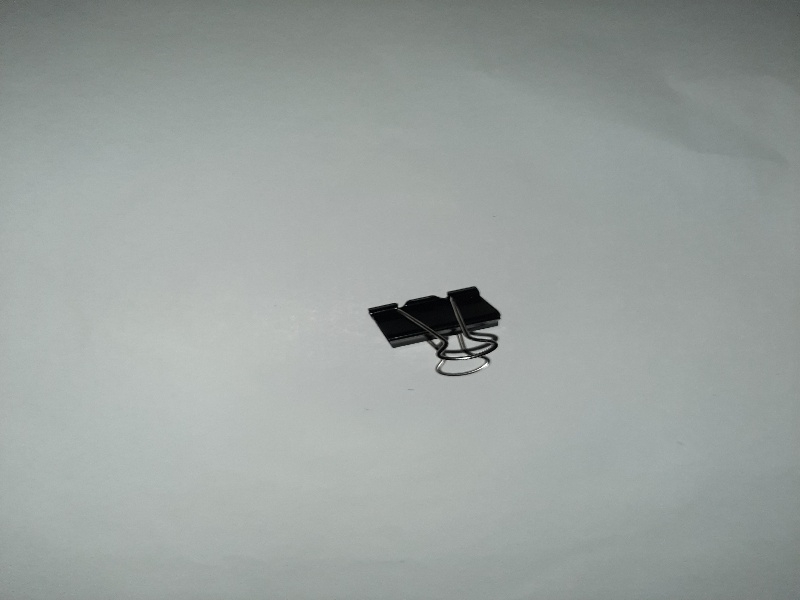Big Paperclip: (361, 280, 521, 382)
